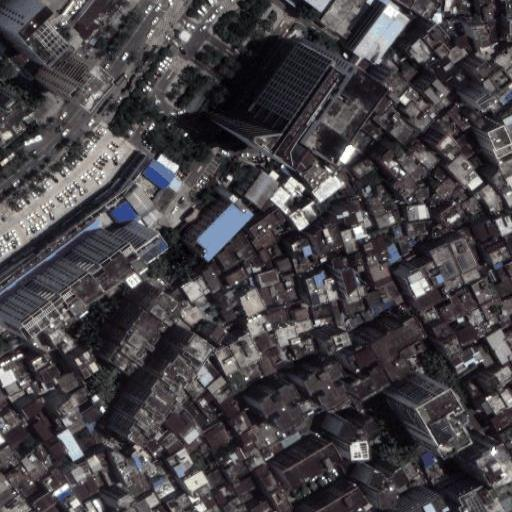building: (211, 37, 334, 147), (104, 323, 193, 441), (347, 317, 428, 403), (94, 283, 163, 365), (416, 389, 474, 462), (177, 189, 239, 257), (355, 5, 410, 68), (472, 42, 512, 116), (401, 261, 451, 314), (283, 444, 341, 489), (304, 363, 354, 415), (256, 381, 306, 433), (71, 0, 125, 45), (33, 45, 81, 94), (212, 228, 258, 274), (405, 22, 451, 67), (319, 0, 372, 39), (244, 204, 289, 249), (365, 467, 412, 508), (336, 418, 383, 459), (430, 243, 467, 294), (474, 443, 512, 492), (448, 236, 484, 287), (446, 154, 485, 194), (313, 486, 368, 512), (455, 483, 504, 512), (243, 171, 279, 208), (261, 430, 303, 461), (102, 211, 139, 246), (310, 171, 347, 205), (0, 84, 25, 134), (398, 151, 432, 187), (228, 334, 262, 369), (213, 287, 246, 323), (6, 463, 38, 500), (437, 106, 471, 140), (219, 449, 253, 483), (201, 419, 237, 451), (168, 409, 200, 445), (239, 244, 272, 278), (181, 274, 214, 308), (166, 447, 199, 481), (309, 224, 345, 255), (111, 447, 139, 486), (409, 139, 442, 172), (449, 285, 481, 319), (182, 468, 214, 502), (484, 328, 512, 366), (403, 100, 435, 133), (232, 473, 263, 507), (381, 68, 413, 100), (252, 461, 282, 495), (378, 145, 406, 181), (475, 185, 506, 217), (290, 238, 319, 272), (57, 428, 85, 463), (48, 324, 78, 356), (485, 125, 512, 160), (413, 90, 443, 121), (303, 159, 334, 189), (237, 288, 267, 319), (199, 260, 230, 290), (155, 427, 185, 458), (214, 345, 241, 379), (496, 153, 512, 210), (472, 217, 502, 247), (178, 300, 208, 330), (451, 346, 483, 374), (335, 204, 367, 232), (438, 198, 467, 228), (206, 377, 236, 406), (19, 451, 48, 481), (363, 235, 391, 266), (47, 393, 78, 421), (373, 103, 402, 132), (387, 117, 416, 146), (391, 171, 420, 200), (1, 422, 31, 450), (151, 473, 182, 500), (471, 277, 499, 306), (240, 440, 267, 470), (432, 59, 460, 87), (435, 177, 463, 205), (421, 76, 449, 104), (341, 267, 362, 303), (72, 475, 100, 502), (30, 415, 56, 444), (489, 266, 512, 298), (73, 351, 99, 379), (65, 461, 94, 486), (322, 332, 352, 356), (412, 494, 452, 512), (471, 23, 494, 54), (32, 489, 63, 512), (407, 0, 439, 22), (485, 239, 512, 265), (485, 366, 512, 392), (377, 282, 403, 309), (260, 281, 286, 308), (194, 360, 219, 388), (46, 435, 70, 464), (481, 393, 507, 419), (63, 408, 88, 435), (306, 275, 328, 305), (460, 192, 485, 218), (202, 324, 227, 350), (228, 410, 253, 436), (268, 487, 294, 512), (16, 372, 41, 398), (480, 297, 507, 321), (310, 301, 334, 328), (212, 483, 239, 507), (166, 490, 195, 512), (435, 134, 460, 159), (268, 185, 293, 210), (206, 466, 231, 491), (369, 261, 393, 287), (265, 305, 292, 328), (252, 329, 276, 354), (219, 395, 244, 419), (86, 449, 111, 473), (43, 468, 68, 492), (246, 314, 272, 337), (21, 398, 47, 421), (134, 491, 162, 512), (406, 182, 431, 205), (58, 370, 81, 395), (365, 290, 386, 317), (0, 444, 20, 472), (282, 176, 306, 199), (275, 326, 299, 349), (1, 493, 30, 512), (30, 351, 55, 373), (491, 405, 512, 431), (245, 495, 277, 512), (0, 473, 17, 505), (476, 342, 496, 369), (278, 272, 296, 302), (351, 158, 375, 180), (486, 312, 512, 332), (374, 209, 400, 229), (454, 132, 476, 155), (257, 354, 279, 377), (227, 264, 249, 287), (438, 300, 459, 324), (194, 494, 222, 512), (60, 491, 84, 512), (131, 450, 151, 475), (112, 494, 139, 512), (38, 363, 61, 384), (34, 445, 54, 469), (0, 364, 19, 389), (301, 200, 322, 222), (290, 209, 311, 231), (184, 380, 205, 402), (81, 405, 103, 426), (81, 494, 106, 512), (3, 382, 24, 403), (343, 300, 367, 318), (328, 299, 344, 326), (341, 228, 358, 253), (492, 257, 512, 278), (457, 325, 478, 345), (448, 43, 469, 63), (70, 386, 91, 406), (52, 482, 74, 501), (274, 256, 297, 274), (257, 268, 280, 286), (495, 214, 512, 238), (495, 384, 512, 408), (405, 205, 429, 222), (220, 497, 247, 512), (92, 393, 110, 415), (497, 423, 512, 449), (432, 322, 451, 342), (466, 111, 485, 131), (239, 427, 259, 446), (407, 220, 432, 235), (324, 278, 340, 301), (292, 342, 314, 358), (467, 309, 486, 327), (353, 249, 367, 273), (432, 166, 450, 184), (346, 313, 364, 331), (332, 254, 350, 272), (198, 393, 216, 411), (445, 338, 462, 357), (369, 197, 386, 216), (395, 236, 410, 257), (397, 91, 415, 108), (502, 115, 512, 144), (100, 466, 115, 485), (478, 0, 492, 20), (294, 319, 315, 332), (390, 222, 405, 240), (91, 472, 106, 490), (487, 21, 500, 40), (352, 225, 367, 241), (294, 307, 309, 322), (44, 377, 60, 391), (150, 443, 164, 458), (362, 308, 375, 323), (503, 297, 512, 316), (505, 18, 512, 42), (504, 0, 512, 19), (505, 330, 512, 349), (148, 505, 165, 512), (506, 233, 512, 251)
